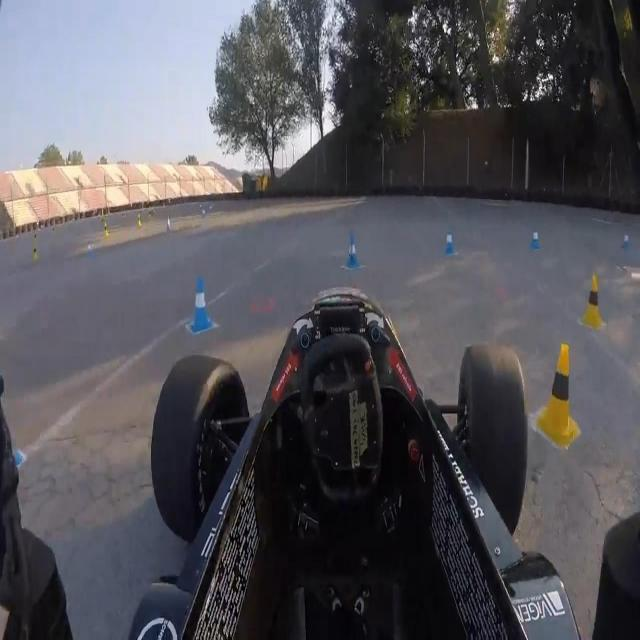blue_cone: (186, 266, 218, 340), (438, 220, 460, 267), (343, 230, 363, 275), (529, 216, 546, 258)
yellow_cone: (536, 336, 583, 451), (580, 266, 606, 331)
